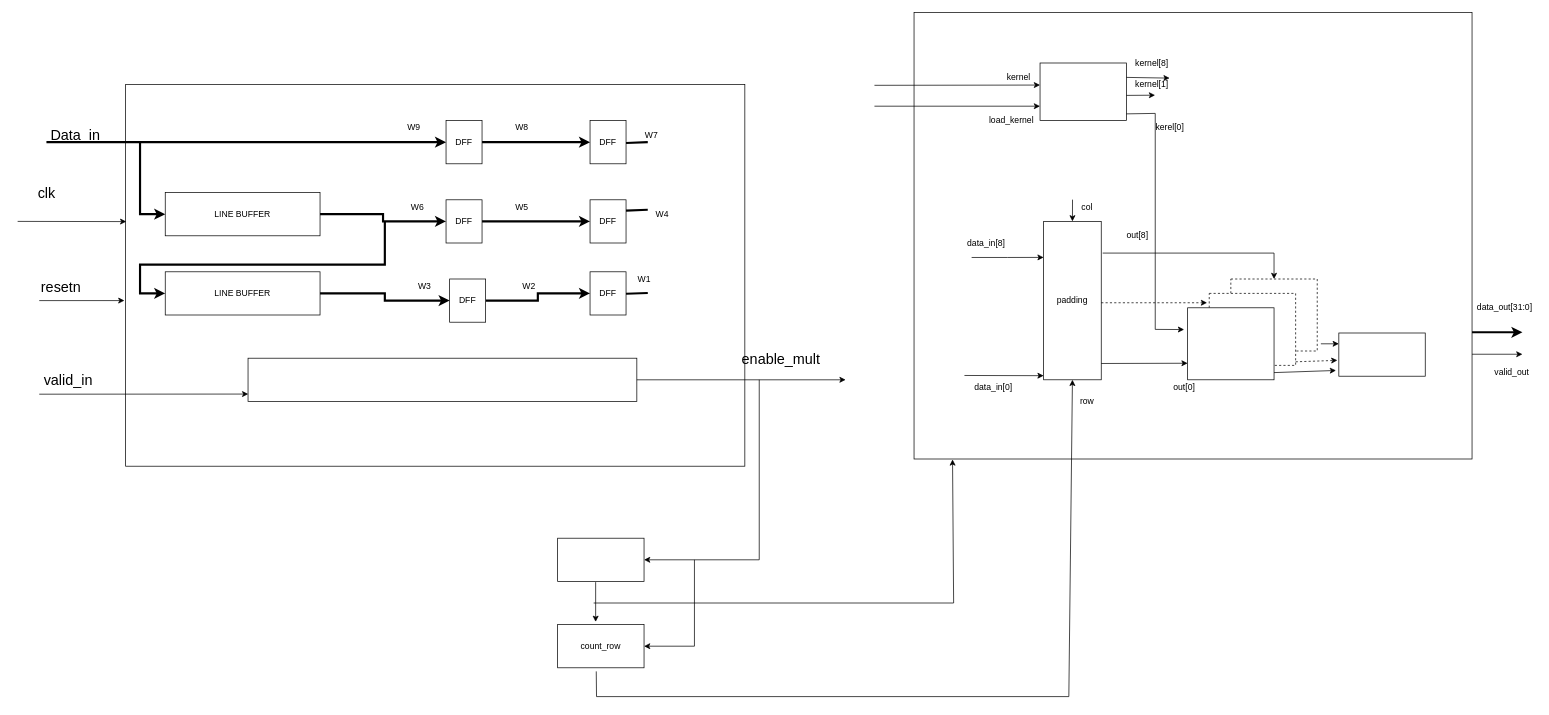
This 1549x715 diagram has some shape labels left out. Here are the shapes that lost their labels. From the top down, the box of each, then its label:
(1039, 62, 1126, 121): store
(1187, 307, 1274, 380): floating point multi
(1338, 332, 1425, 376): FP add
(247, 357, 637, 401): (K>>1)*(WIDTH + 1)
(557, 537, 644, 581): count_col
